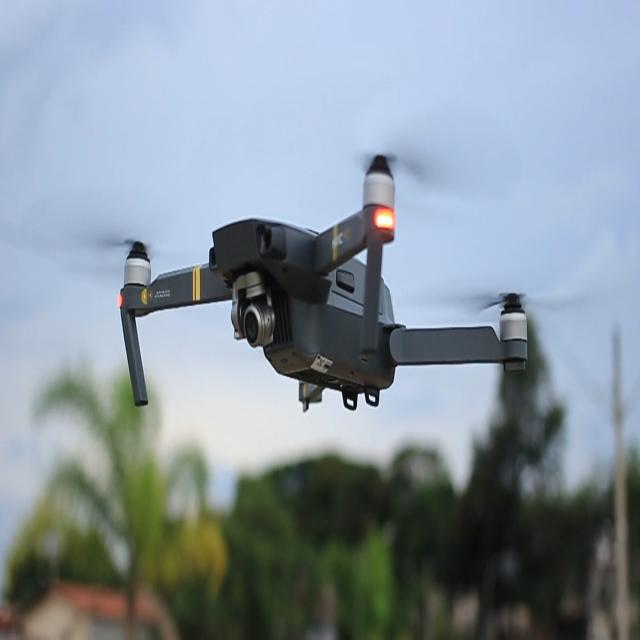drone: (50, 138, 558, 410)
